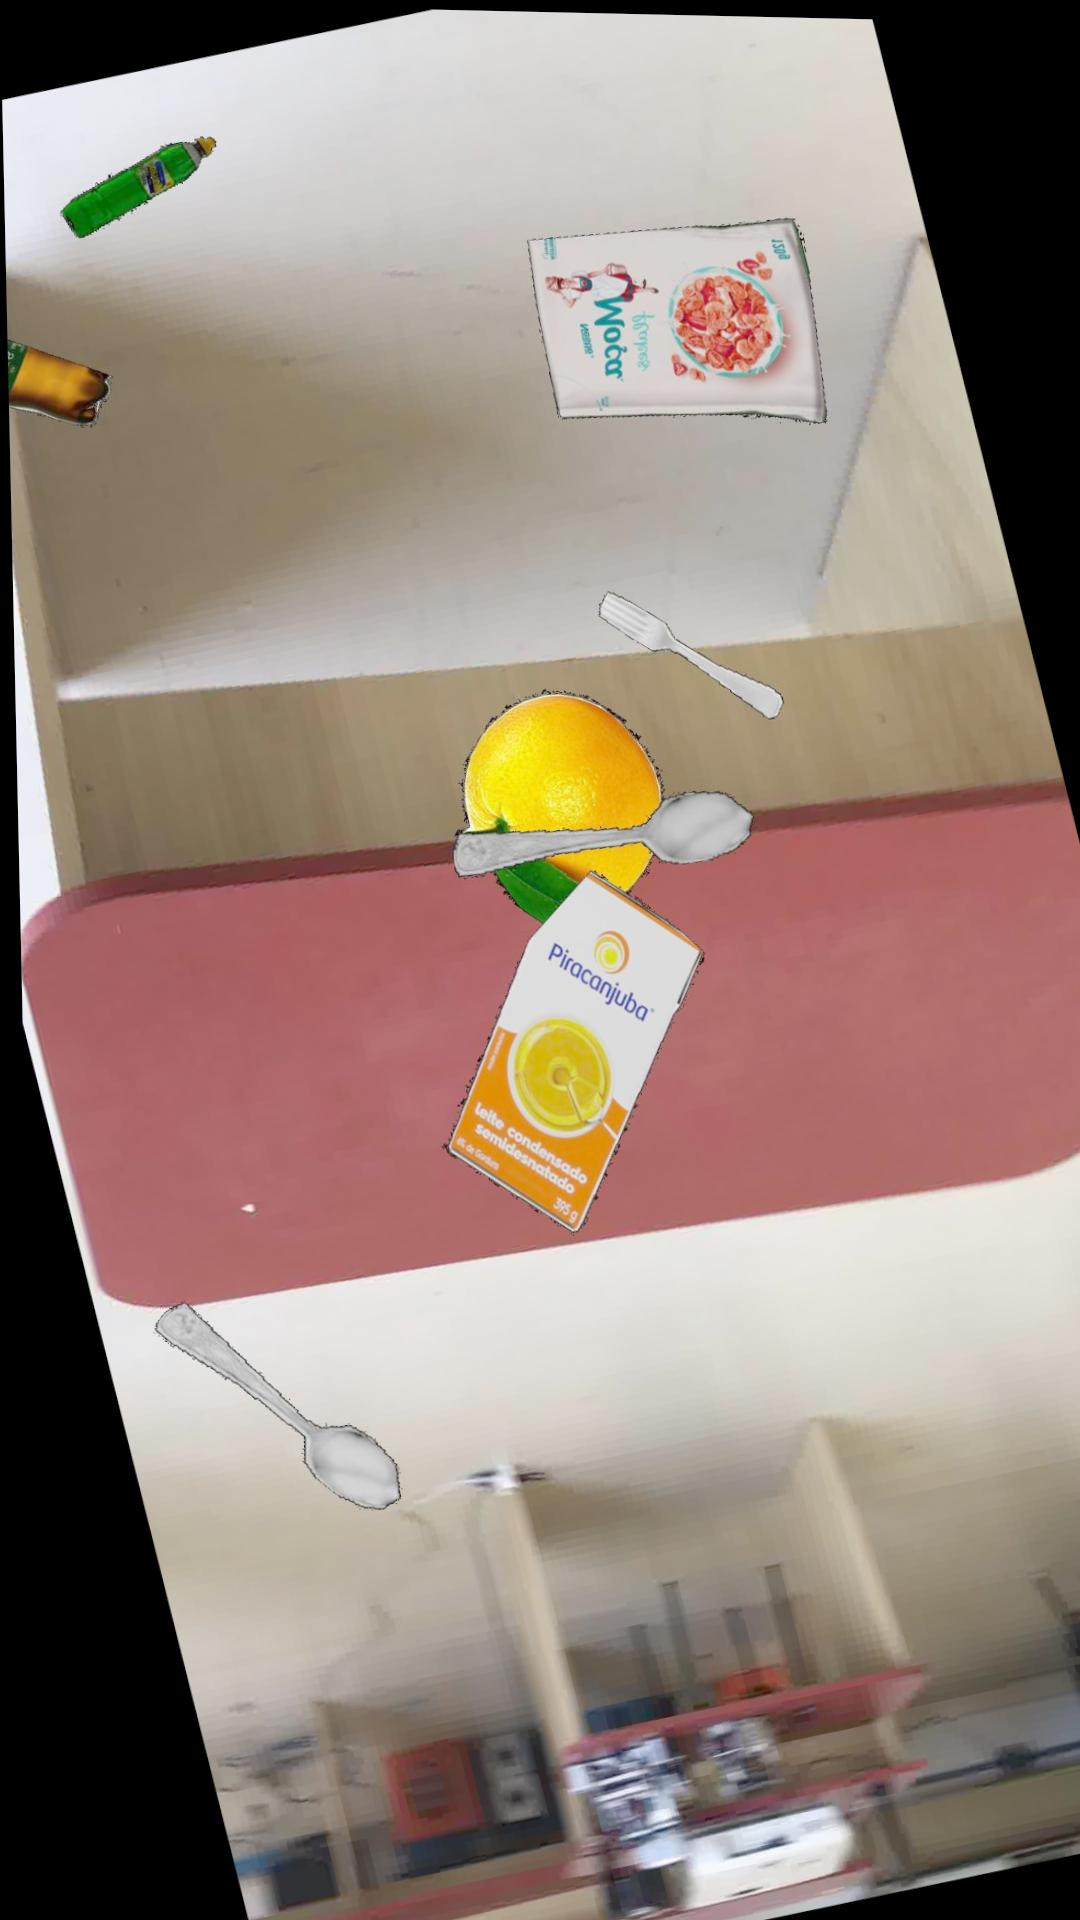cleaner: (58, 137, 215, 239)
corn flakes: (525, 216, 824, 421)
fork: (595, 589, 779, 717)
guarana: (7, 340, 109, 427)
orange: (450, 690, 659, 923)
spoon: (148, 1303, 393, 1510), (447, 789, 749, 877)
